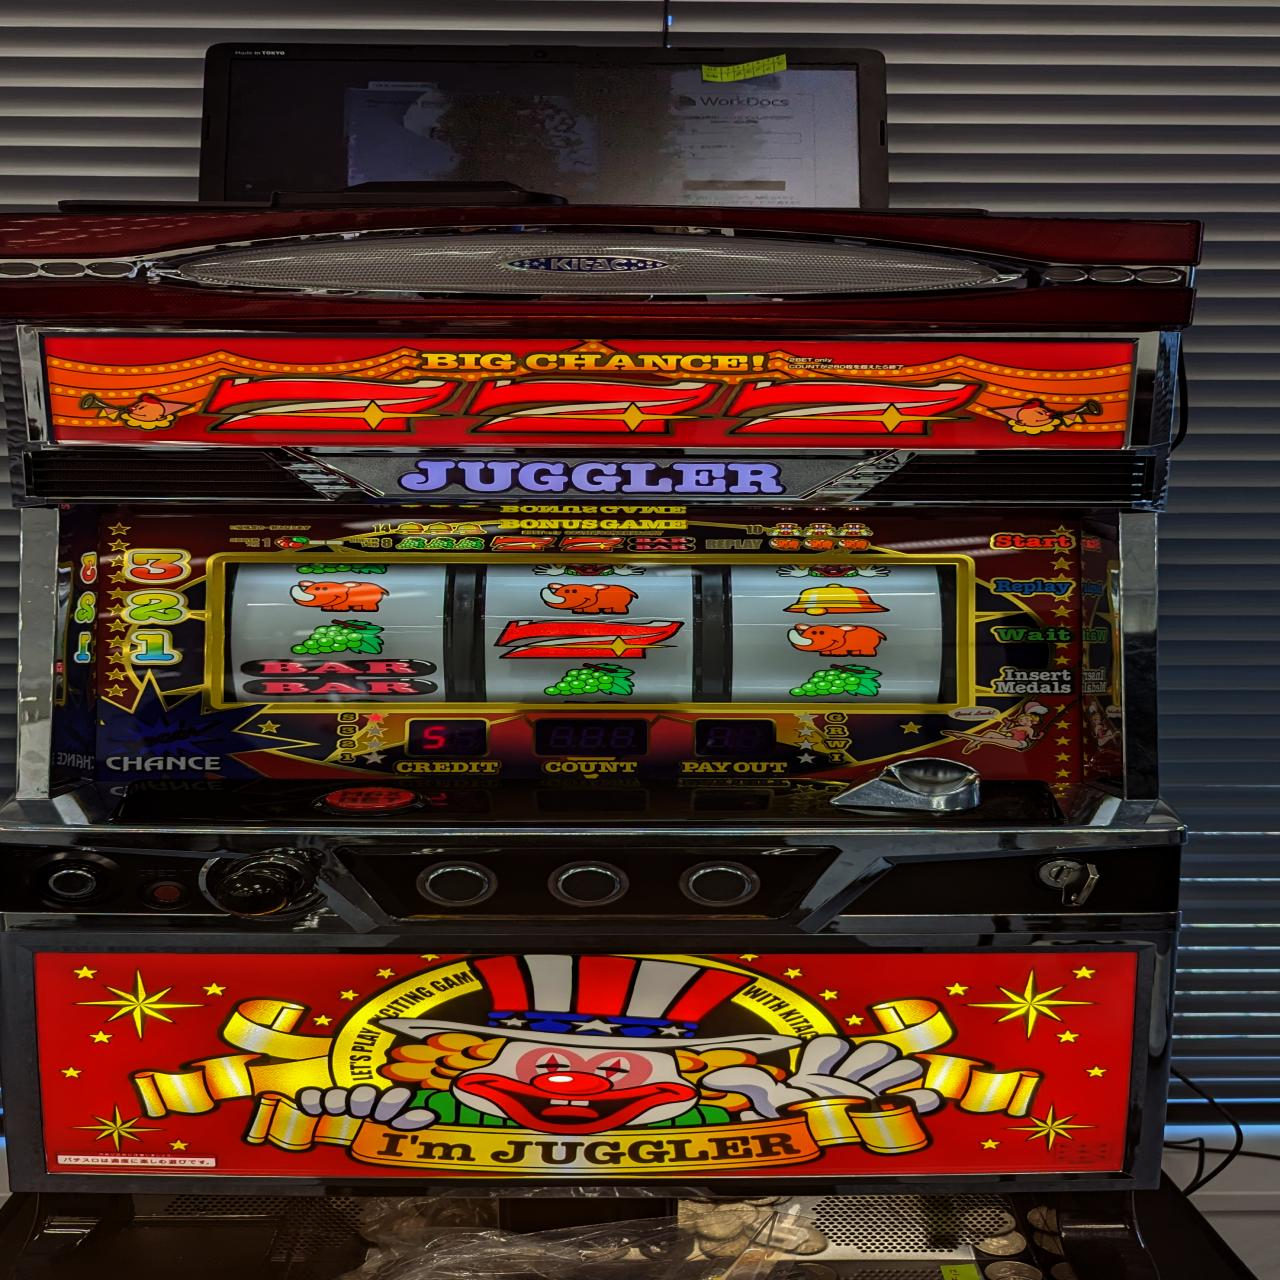7: (496, 618, 685, 662)
8: (784, 622, 891, 658), (286, 579, 389, 612), (538, 581, 638, 613)
Display: (216, 556, 971, 709)
bar: (239, 658, 441, 697)
bell: (784, 583, 888, 617)
grape: (290, 619, 386, 655), (542, 662, 639, 697), (788, 662, 883, 697)
